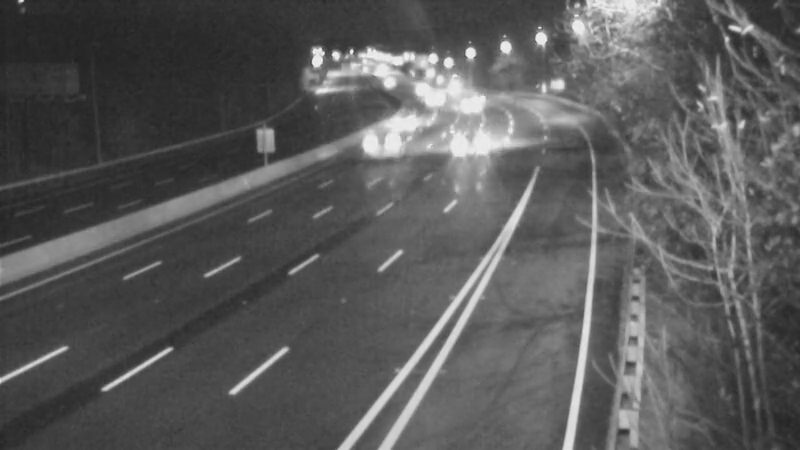vehicle: (423, 112, 503, 192), (430, 67, 480, 117), (404, 72, 454, 122), (441, 83, 491, 133), (385, 94, 435, 144), (355, 115, 405, 165)
